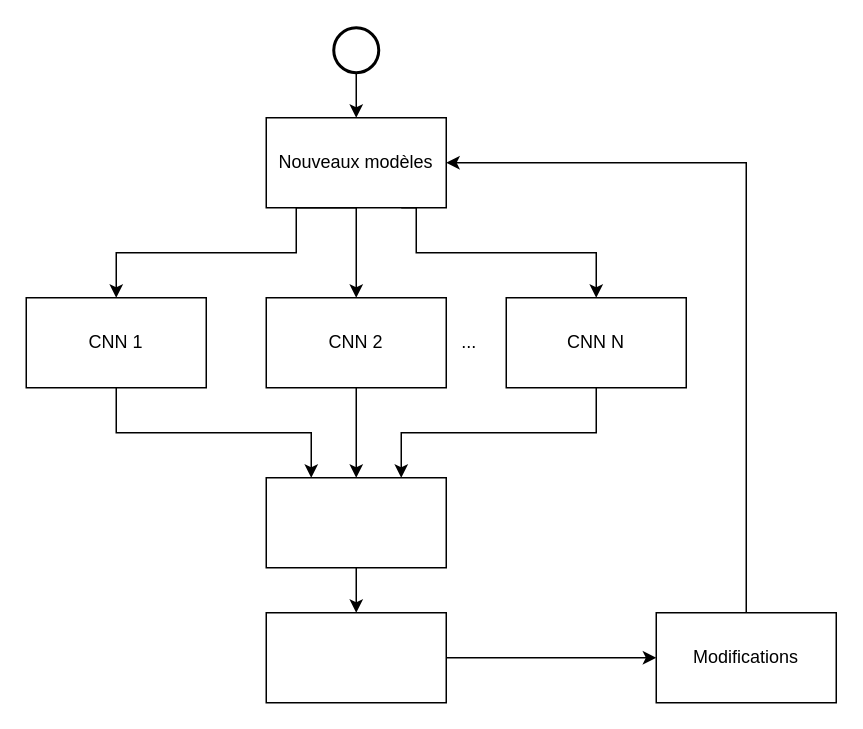
Image size: 863x729. Some labels were removed from this diagram. The centre of each missing label's shape, as x and y in pixels:
Entraînement: (x=355, y=522)
Sélection des meilleures modèles: (x=355, y=657)
